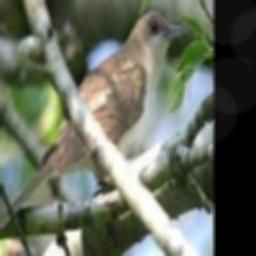Cuckoo: (0, 11, 186, 242)
